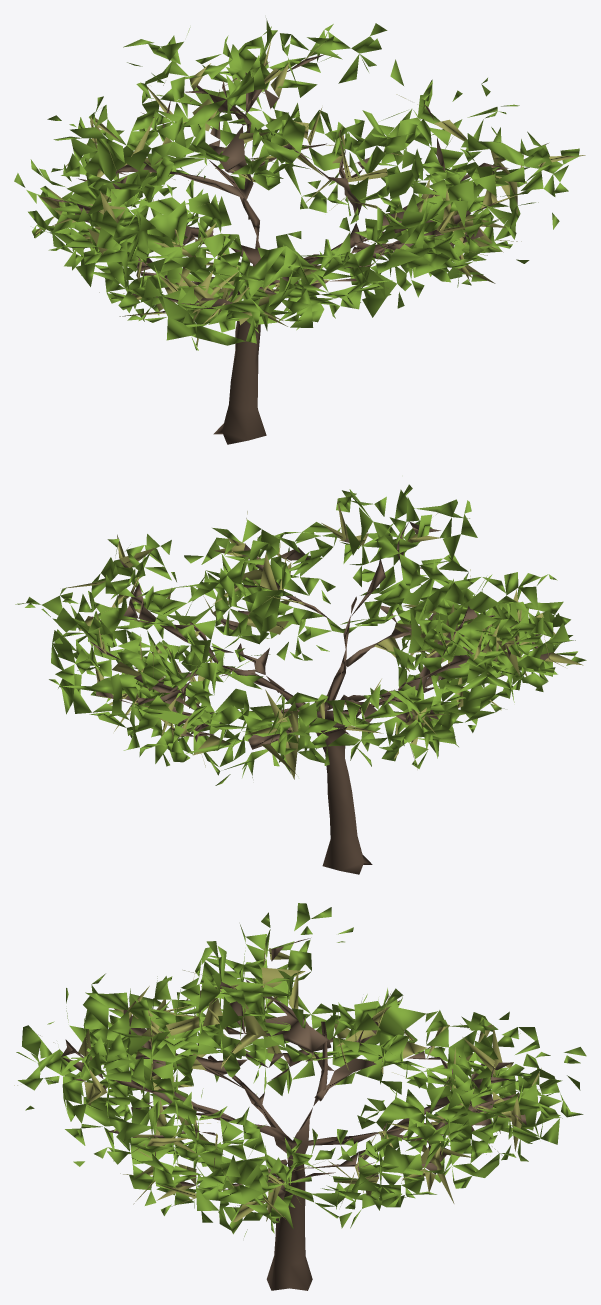
The picture shows the model from 3 angles, top to bottom: view 1: azimuth 30°, elevation 25°; view 2: azimuth 150°, elevation 25°; view 3: azimuth 270°, elevation 25°; orthographic projection. The views are drawn at different scales.
Parts seen in each view (by area): view 1: body; view 2: body; view 3: body.
Part boxes in pixels (box(x1,y1,x2,y2)): body: box(14, 18, 585, 444); body: box(15, 484, 586, 874); body: box(14, 903, 586, 1290).
Bounding box in the file's own units: 10.96 × 6.31 × 11.06.
1 material, 1 textured.
